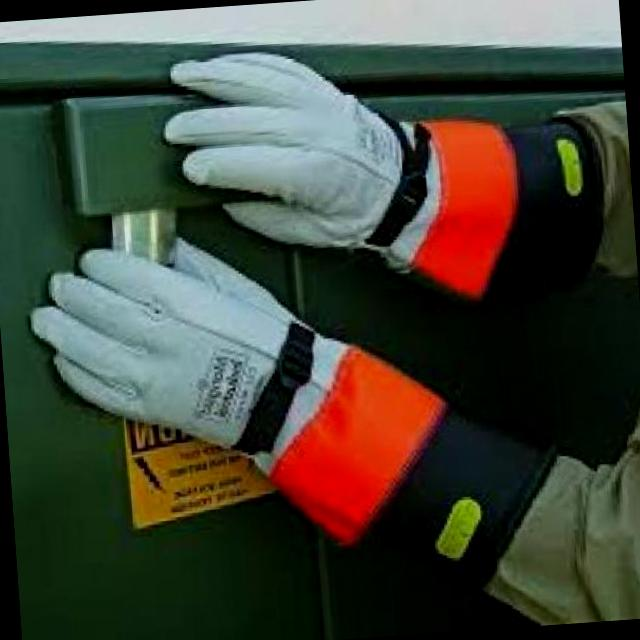gloves: (26, 197, 558, 599), (152, 25, 598, 308)
